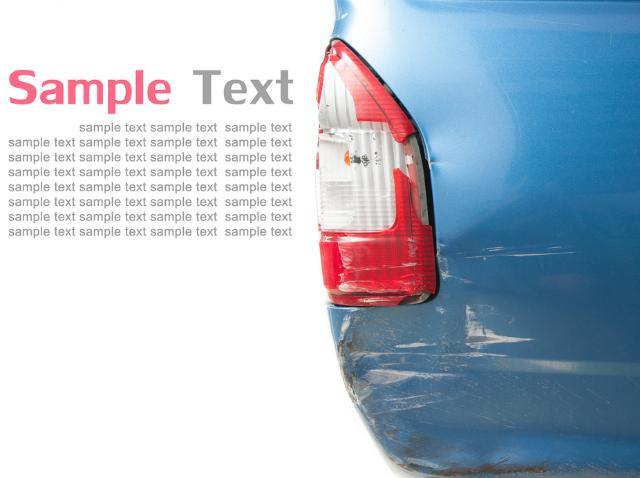Bumper: (330, 248, 569, 442)
Light: (315, 47, 429, 298)
